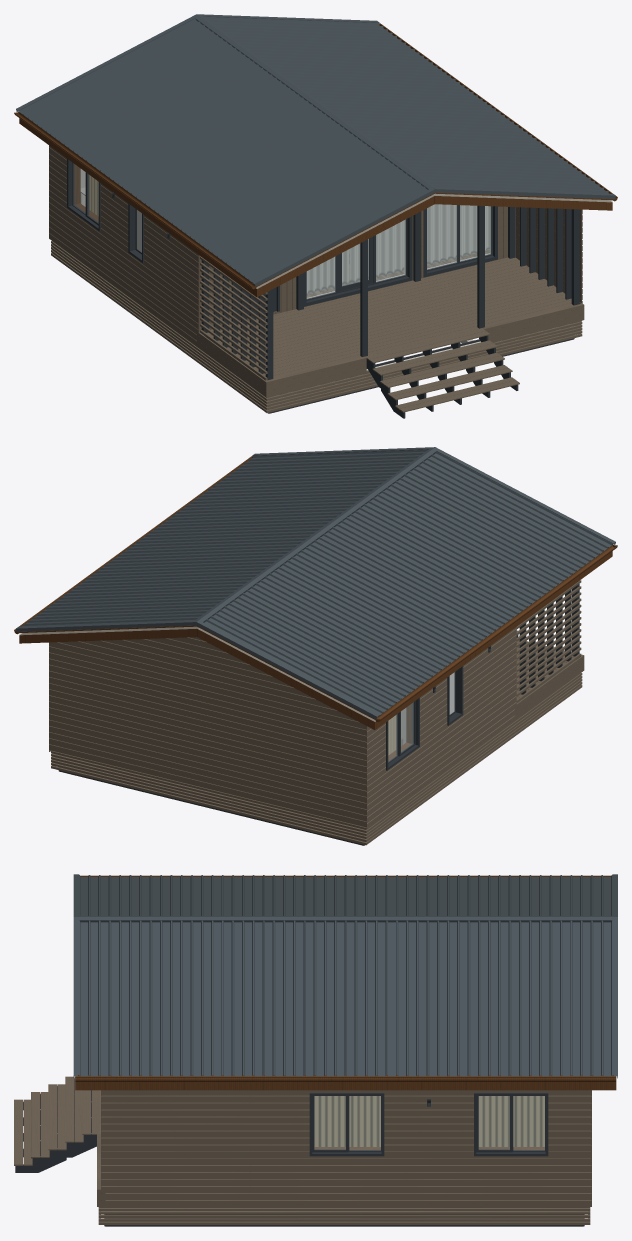
File: house.glb
3 renders of one model, top to bottom at view 1: azimuth 30°, elevation 25°; view 2: azimuth 150°, elevation 25°; view 3: azimuth 270°, elevation 25°, orthographic. The views are drawn at different scales.
Visible parts, largest first — view 1: roof_bathroom, roof_living, floor_living, wall_west_bathroom, window_south_living, roof_entry, floor_entry, foundation_living, foundation_entry, curtains_living_panorama_right, foundation_bathroom, wall_south_living (+4 smaller); view 2: roof_bathroom, wall_north_bedroom_west, roof_living, wall_west_bathroom, foundation_bedroom_west, roof_entry, foundation_bathroom, foundation_entry, window_west_bedroom_west, window_west_bathroom; view 3: roof_living, wall_east_living, roof_bathroom, foundation_living, floor_entry, window_east_living, window_east_bedroom_east, foundation_entry, curtains_bedroom_east_left, curtains_bedroom_east_right, curtains_living_left, curtains_living_right.
Boxes of the visible parts, box(x1,y1,x2,y2) form: roof_bathroom: box(14, 14, 435, 289); roof_living: box(19, 14, 617, 328); floor_living: box(204, 250, 573, 380); wall_west_bathroom: box(49, 145, 198, 347); window_south_living: box(304, 204, 497, 306); roof_entry: box(200, 239, 367, 380); floor_entry: box(365, 328, 519, 412); foundation_living: box(265, 320, 582, 418); foundation_entry: box(197, 302, 584, 413); curtains_living_panorama_right: box(349, 204, 489, 283); foundation_bathroom: box(52, 241, 266, 411); wall_south_living: box(199, 206, 515, 335); roof_bathroom: box(196, 447, 617, 722); wall_north_bedroom_west: box(49, 637, 366, 827); roof_living: box(14, 447, 612, 729); wall_west_bathroom: box(366, 627, 516, 829); foundation_bedroom_west: box(51, 750, 367, 845); roof_entry: box(516, 580, 581, 702); foundation_bathroom: box(366, 673, 581, 844); foundation_entry: box(58, 640, 584, 845); window_west_bedroom_west: box(386, 698, 419, 770); window_west_bathroom: box(447, 666, 463, 725); roof_living: box(73, 917, 617, 1186); wall_east_living: box(101, 1090, 591, 1206); roof_bathroom: box(73, 874, 617, 916); foundation_living: box(15, 1078, 587, 1224); floor_entry: box(14, 1076, 100, 1165); window_east_living: box(309, 1093, 384, 1156); window_east_bedroom_east: box(474, 1093, 548, 1156); foundation_entry: box(97, 1133, 584, 1226); curtains_bedroom_east_left: box(478, 1096, 509, 1146); curtains_bedroom_east_right: box(513, 1096, 544, 1146); curtains_living_left: box(314, 1096, 345, 1146); curtains_living_right: box(349, 1096, 380, 1146).
Bounding box in the file's own units: 9.4 × 4.84 × 11.78.
Materials: 34 (14 with a texture image).
